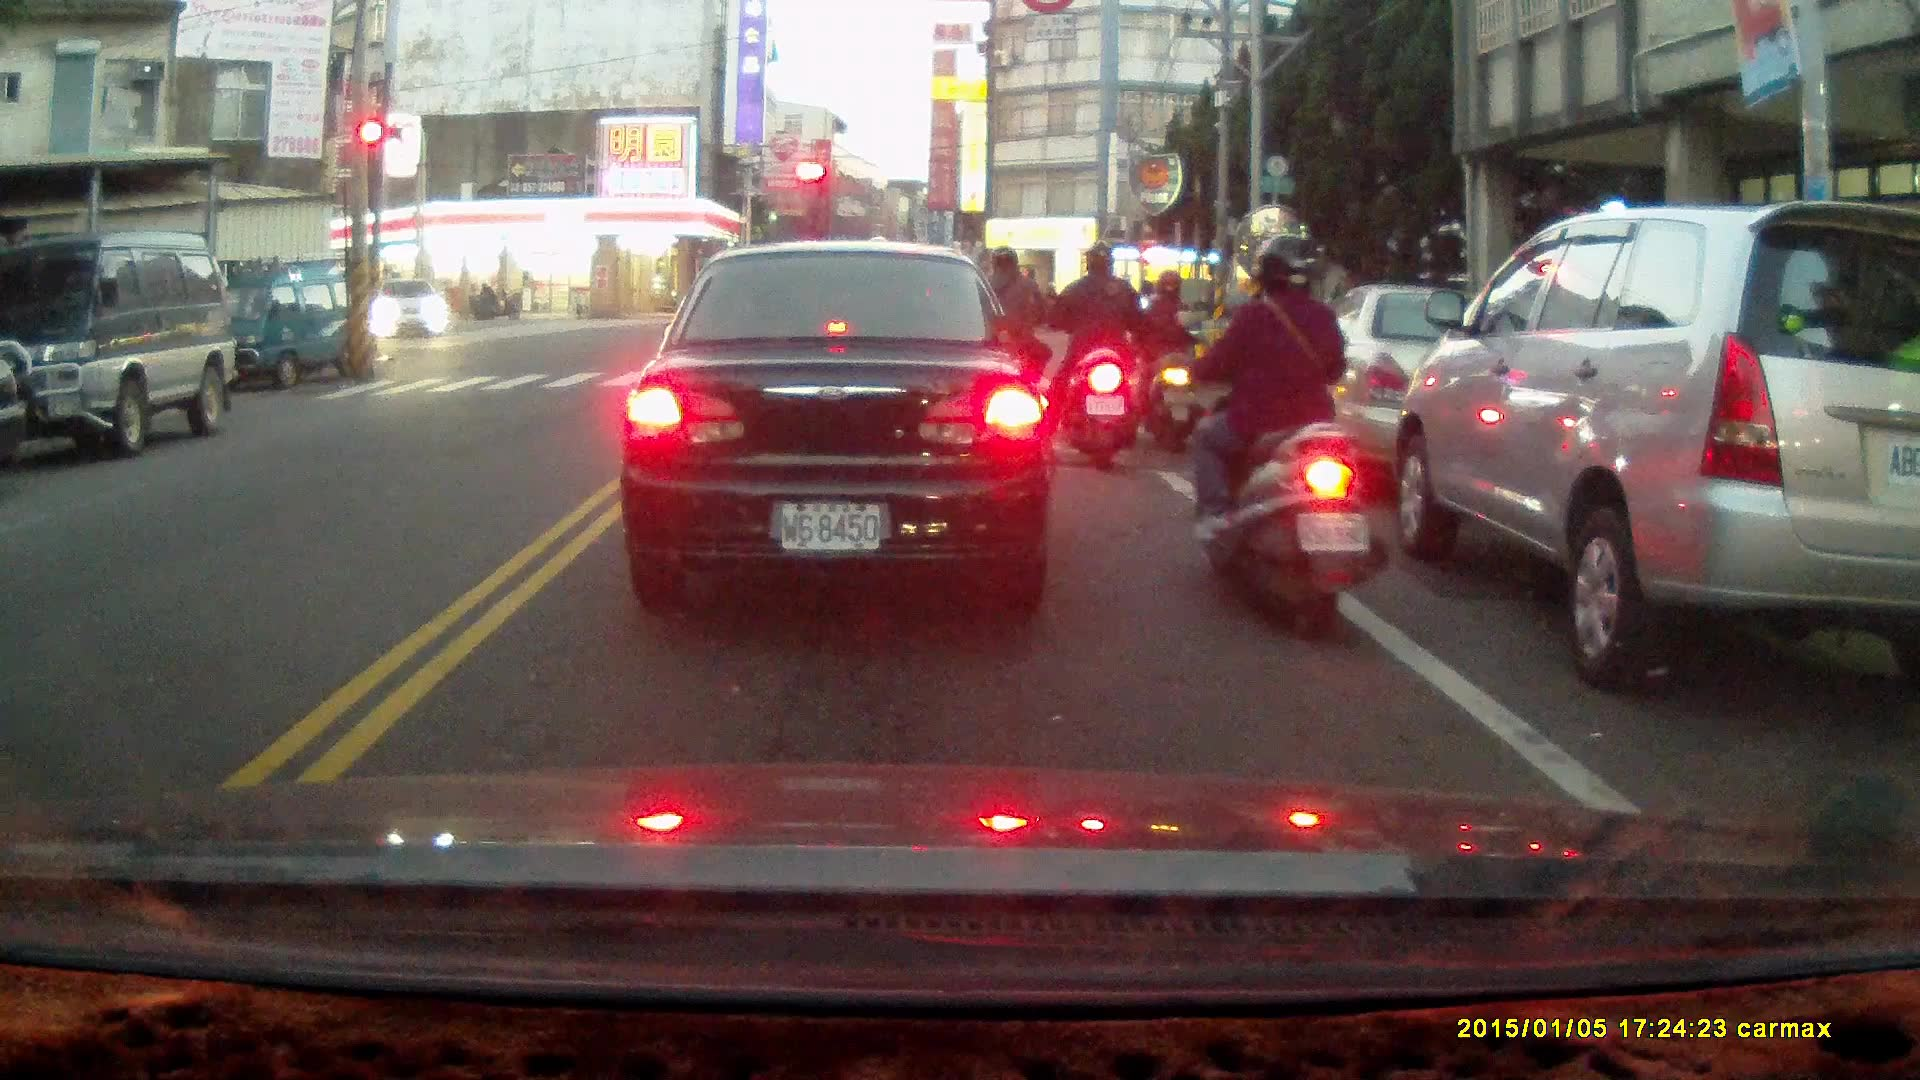rider: (1175, 229, 1390, 642), (1048, 242, 1141, 468), (960, 240, 1055, 437), (1134, 269, 1204, 450), (470, 277, 519, 323)
vehicle: (1374, 195, 1920, 685), (617, 243, 1061, 606), (1, 234, 239, 458), (194, 255, 381, 393), (372, 277, 451, 343)
